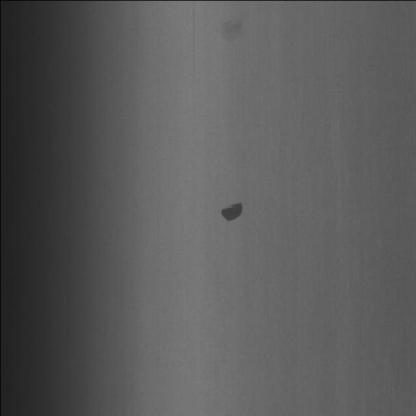oil_spot: (207, 195, 244, 238)
